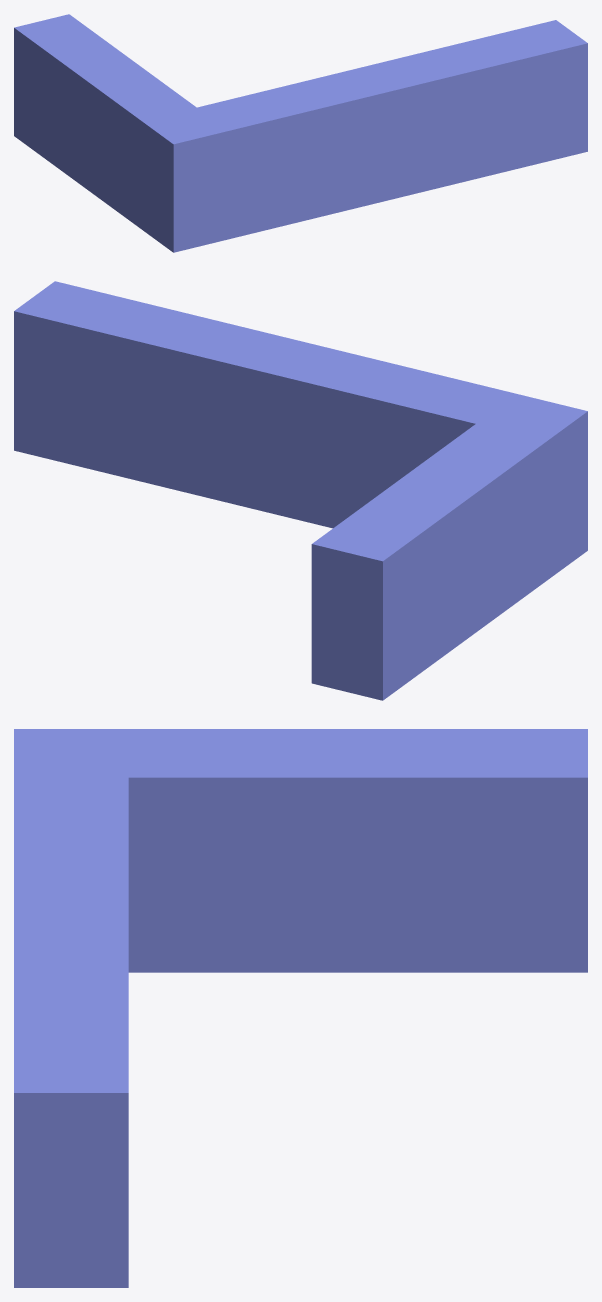
Rendered from bracket.dae.
The picture shows the model from 3 angles, top to bottom: view 1: azimuth 30°, elevation 25°; view 2: azimuth 150°, elevation 25°; view 3: azimuth 270°, elevation 25°; orthographic projection. The views are drawn at different scales.
Parts seen in each view (by area): view 1: n; view 2: n; view 3: n.
Boxes of the visible parts, box(x1,y1,x2,y2) form: n: box(14, 14, 587, 252); n: box(14, 281, 587, 700); n: box(14, 729, 587, 1287).
Size of the model in its own units: 60 by 40 by 15.
